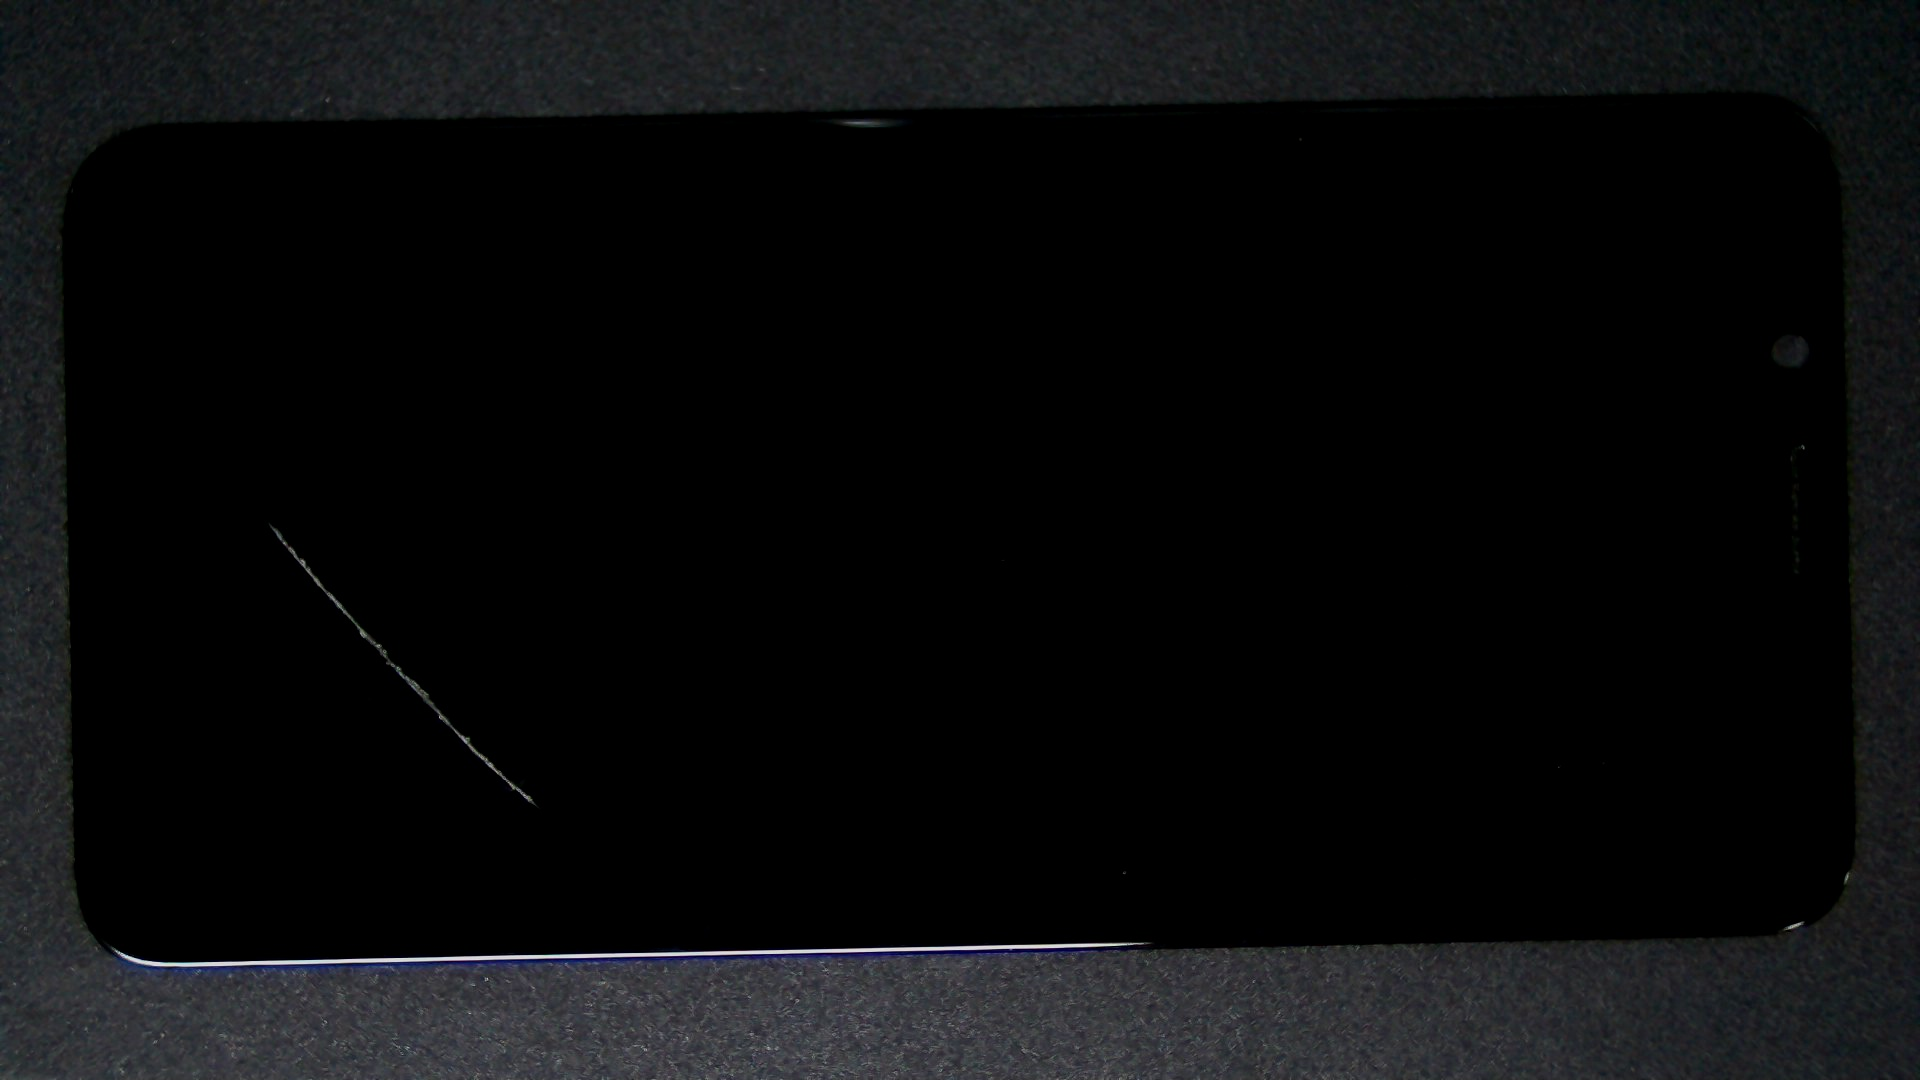oil: (133, 258, 401, 783)
